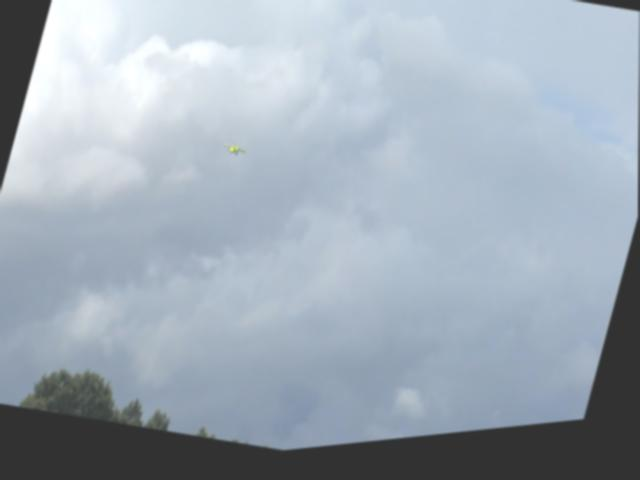plane: (222, 146, 247, 167)
